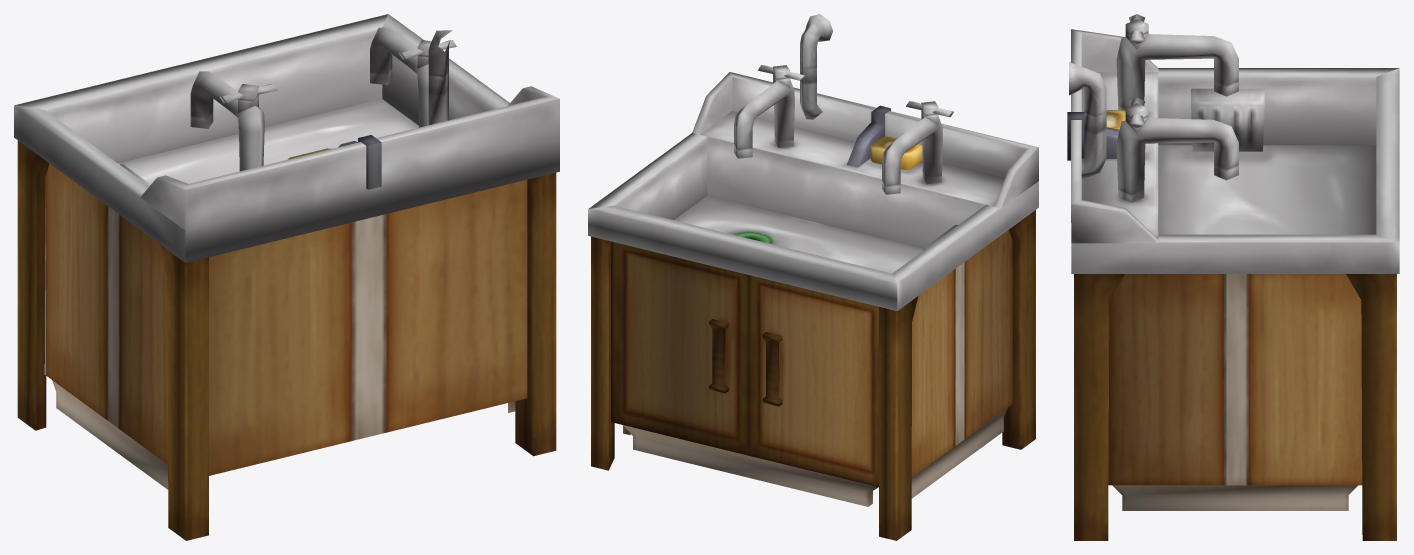
The model's file is a_SWIwash01.glb.
3 renders of one model, left to right at view 1: azimuth 30°, elevation 25°; view 2: azimuth 150°, elevation 25°; view 3: azimuth 270°, elevation 25°, orthographic. The views are drawn at different scales.
Visible parts, largest first — view 1: a_SWIwash01; view 2: a_SWIwash01; view 3: a_SWIwash01.
Part boxes in pixels (x1,y1,x2,y2): a_SWIwash01: (14, 14, 559, 540); a_SWIwash01: (588, 14, 1038, 540); a_SWIwash01: (1067, 14, 1399, 540).
Bounding box in the file's own units: 0.9619 × 1.1 × 0.7713.
1 material, 1 textured.
